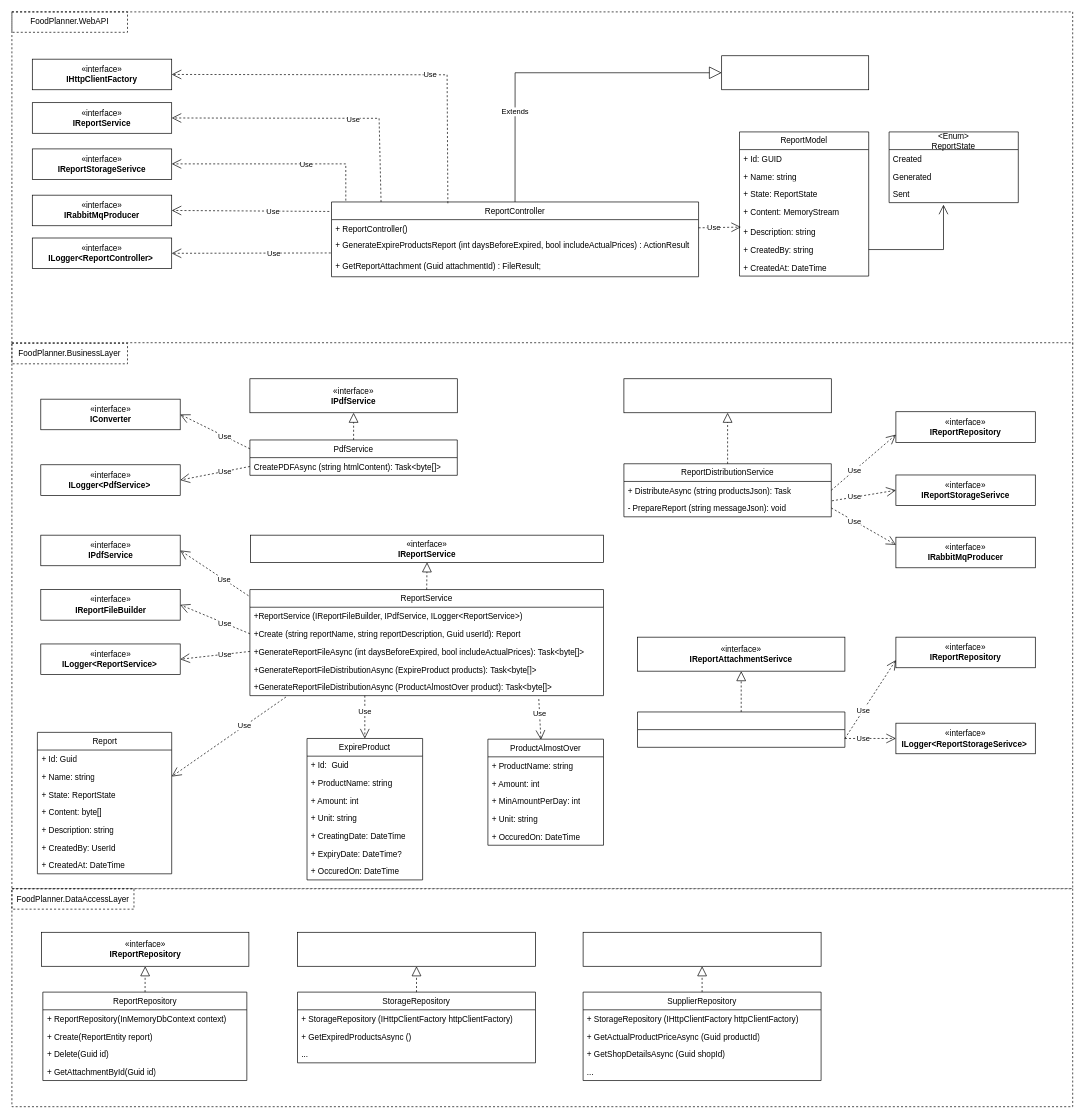
This 1085x1119 diagram has some shape labels left out. Here are the shapes that lost their labels. From the top down, the centre of each, then its label:
At (x=795, y=72): "ControllerBase".
At (x=727, y=395): "«interface» IReportDistributionService".
At (x=741, y=729): "ReportAttachmentSerivce".
At (x=416, y=949): "«interface» IStorageRepository".
At (x=701, y=949): "«interface» ISupplierRepository".
